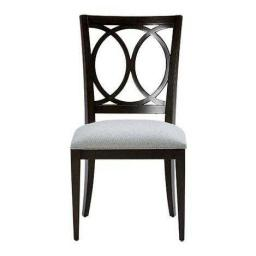Chair: (71, 14, 187, 243)
